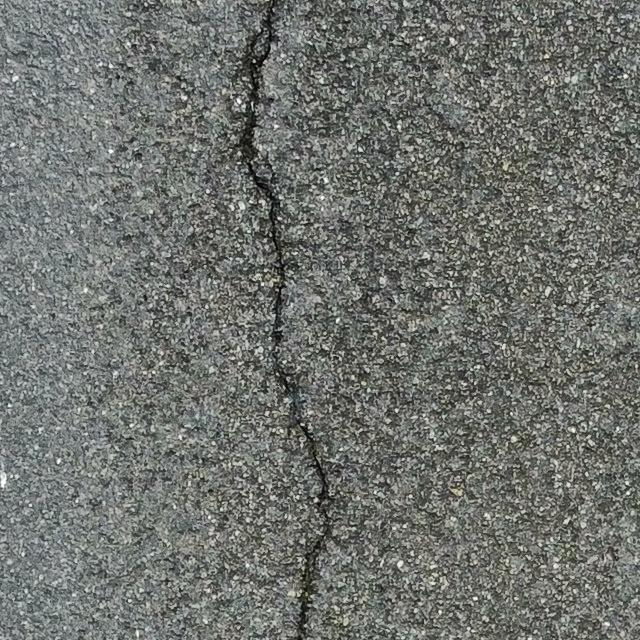LongitudinalCrack: (238, 1, 334, 640)
